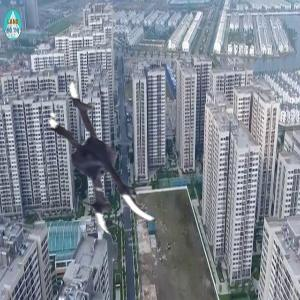drone: (32, 77, 192, 237)
